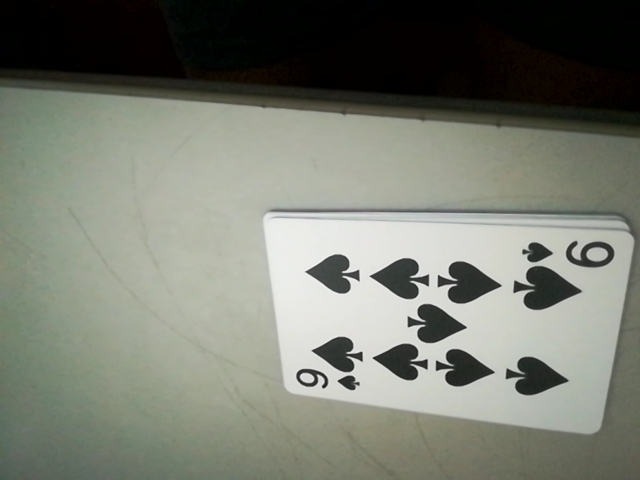ht 9: (520, 232, 623, 271), (287, 364, 360, 398)
